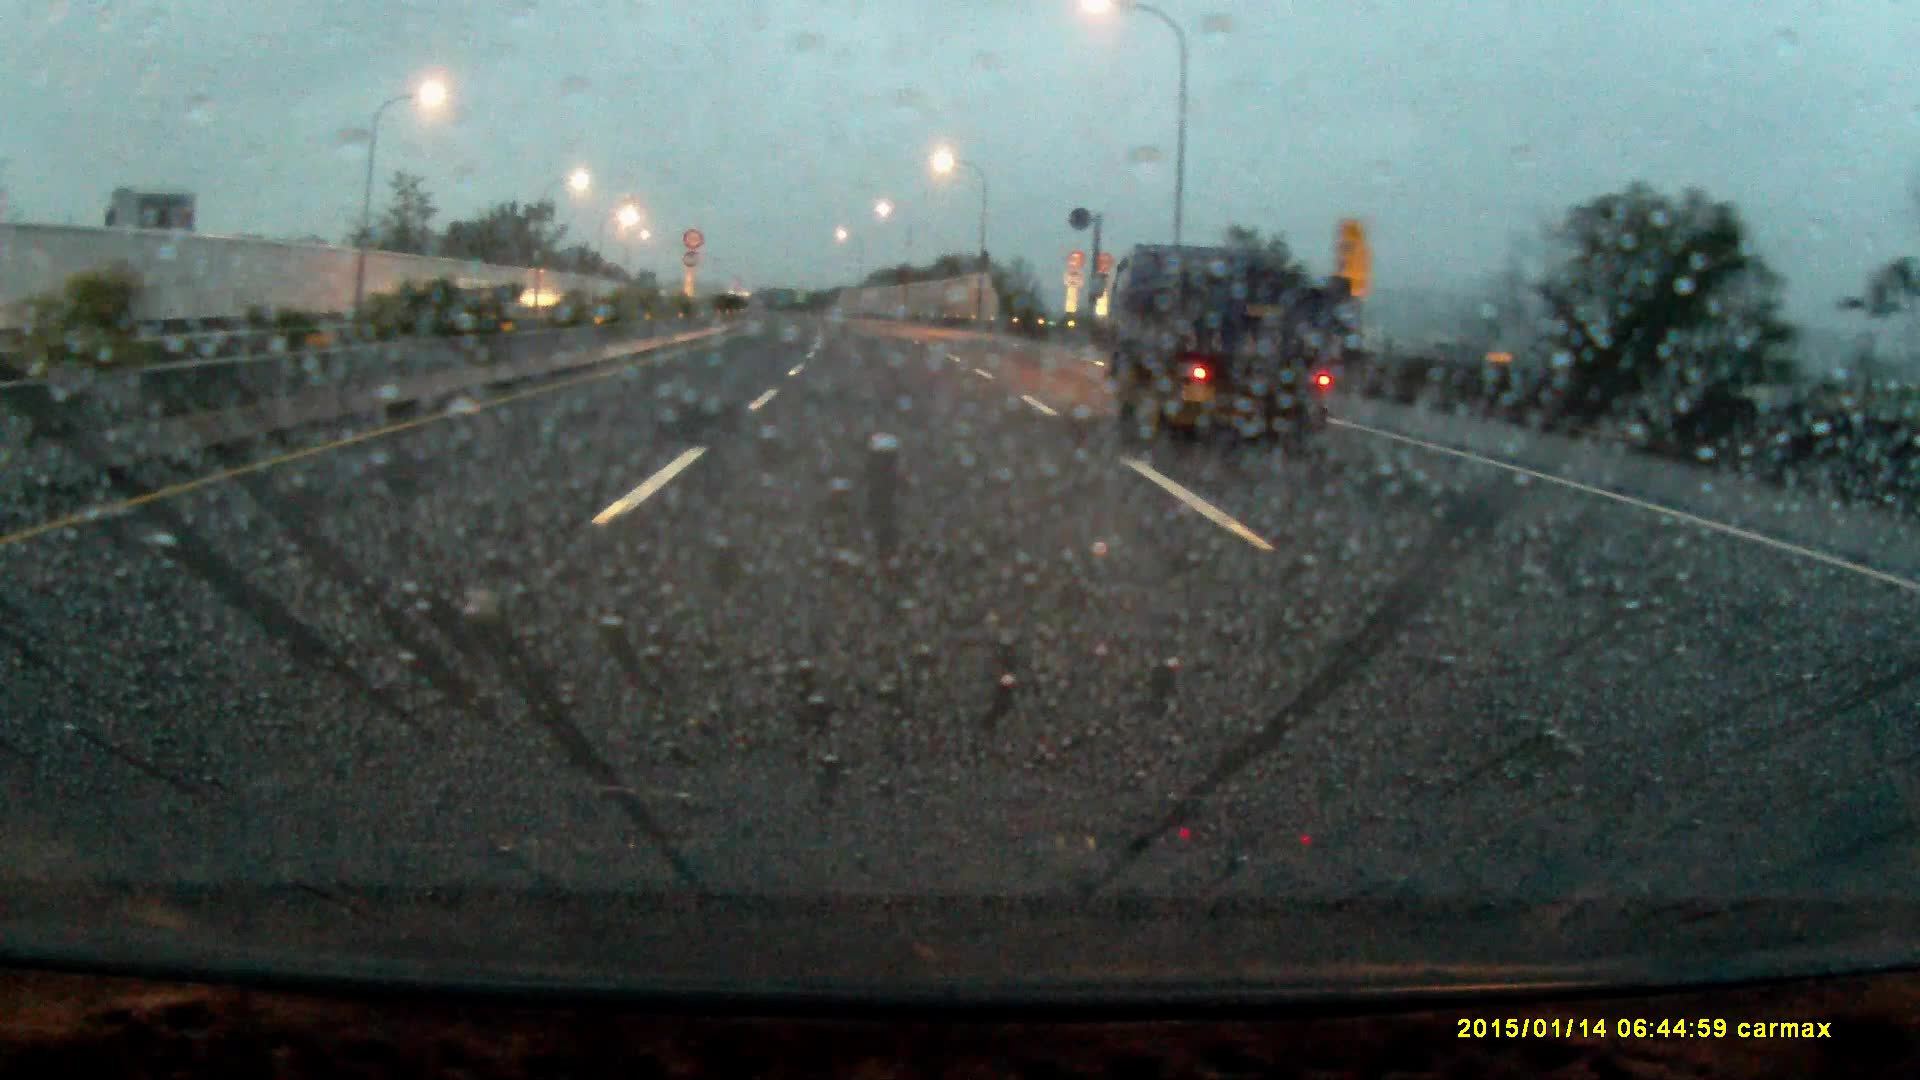vehicle: (1106, 237, 1357, 429)
